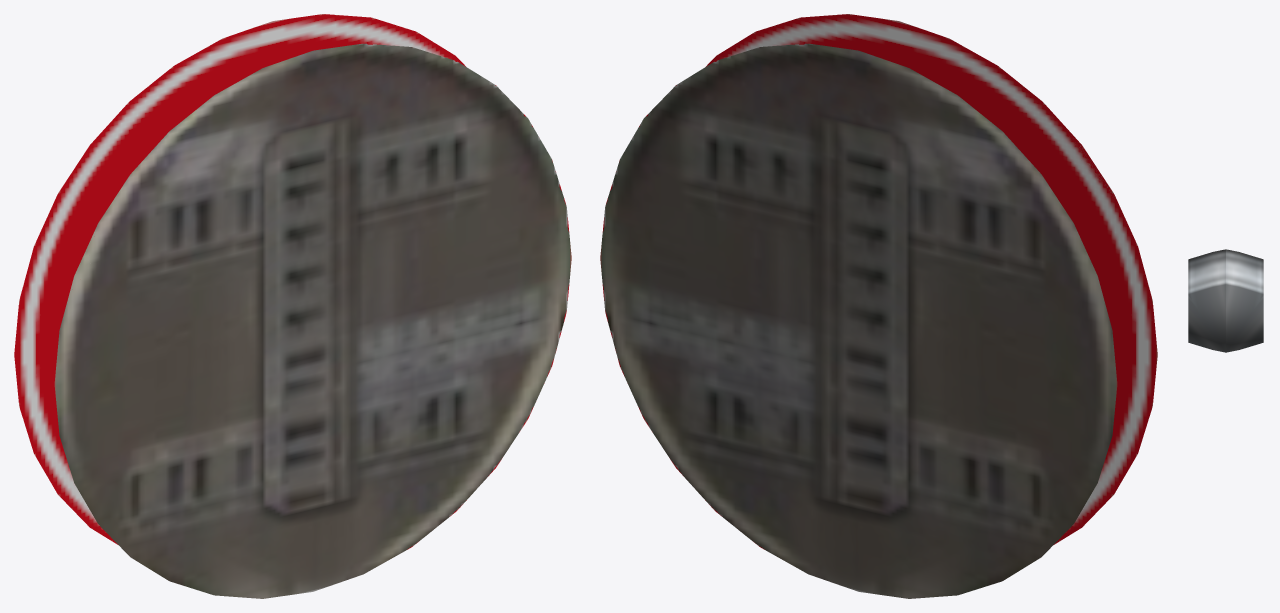
Rendered from Parts_Plate_Circle900_W.fbx.
The picture shows the model from 3 angles, left to right: view 1: azimuth 30°, elevation 25°; view 2: azimuth 150°, elevation 25°; view 3: azimuth 270°, elevation 25°; orthographic projection.
Parts seen in each view (by area): view 1: 963_plate_circle900_w; view 2: 963_plate_circle900_w; view 3: 963_plate_circle900_w.
Part boxes in pixels (x1=…): 963_plate_circle900_w: x1=14, y1=14, x2=571, y2=598; 963_plate_circle900_w: x1=600, y1=14, x2=1157, y2=598; 963_plate_circle900_w: x1=1188, y1=249, x2=1263, y2=352.
Bounding box in the file's own units: 0.9 × 0.9 × 0.1215.
